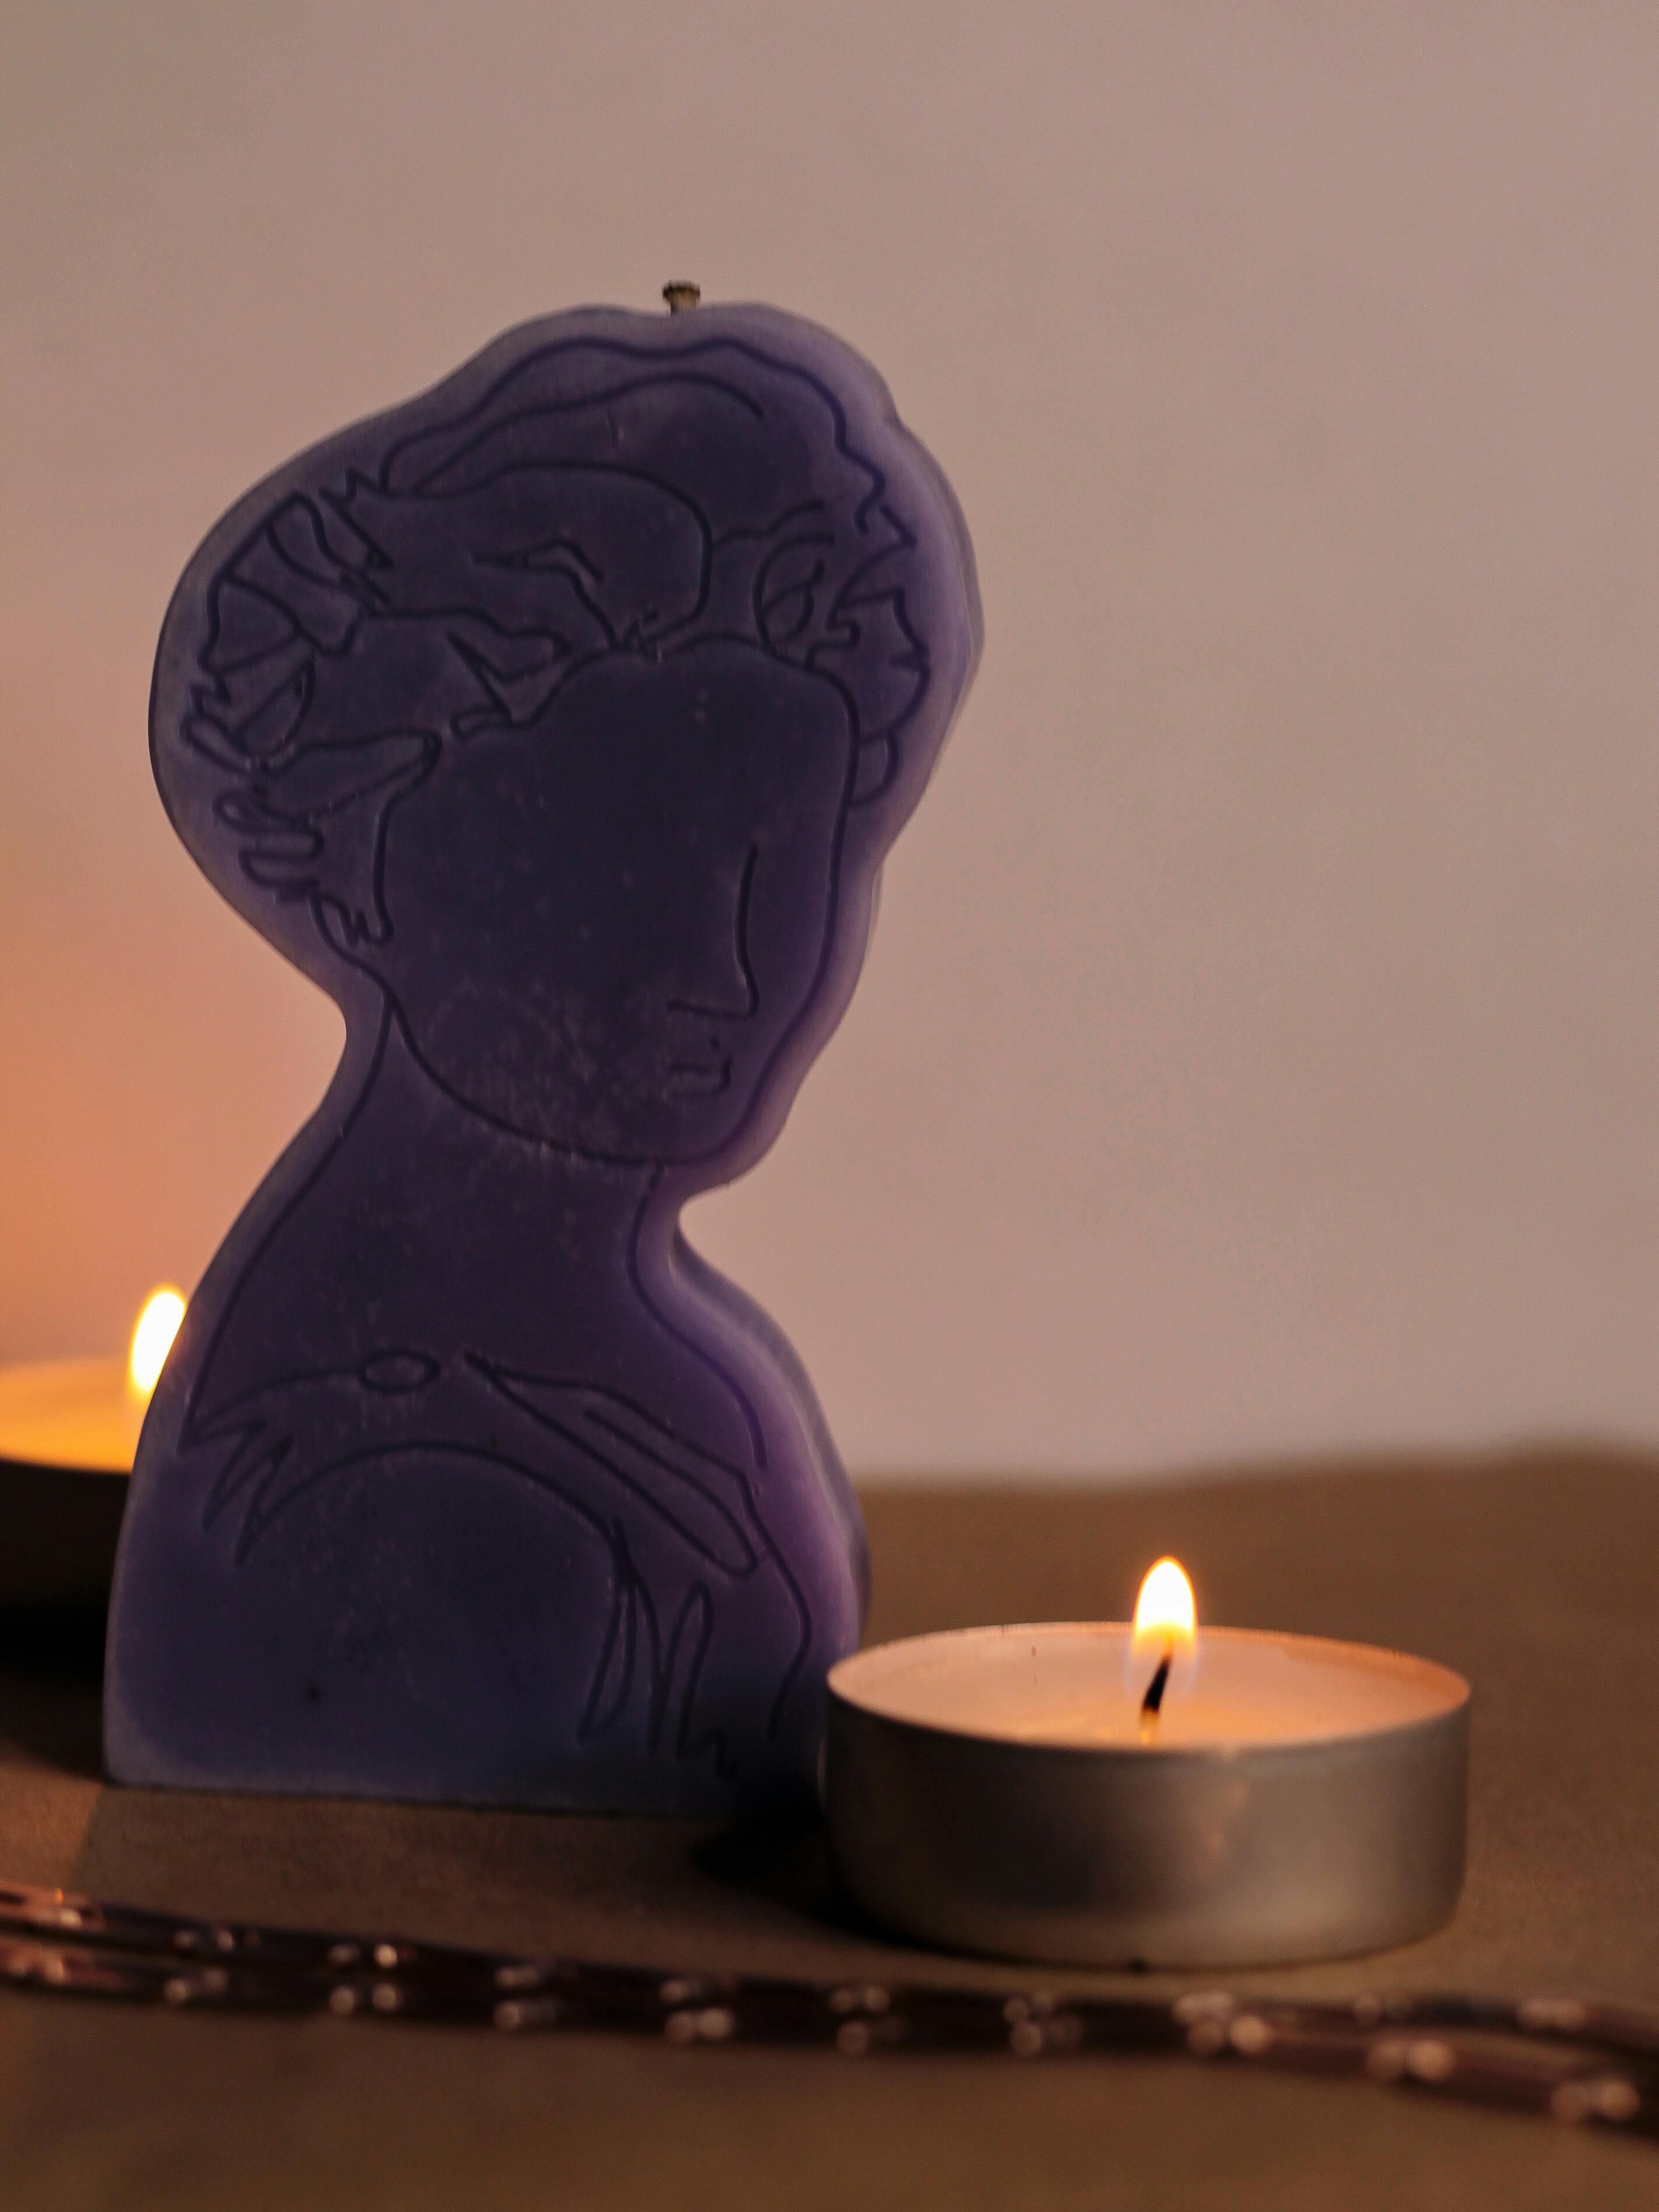Fire: (1108, 1546, 1237, 1684), (71, 1272, 188, 1389)
